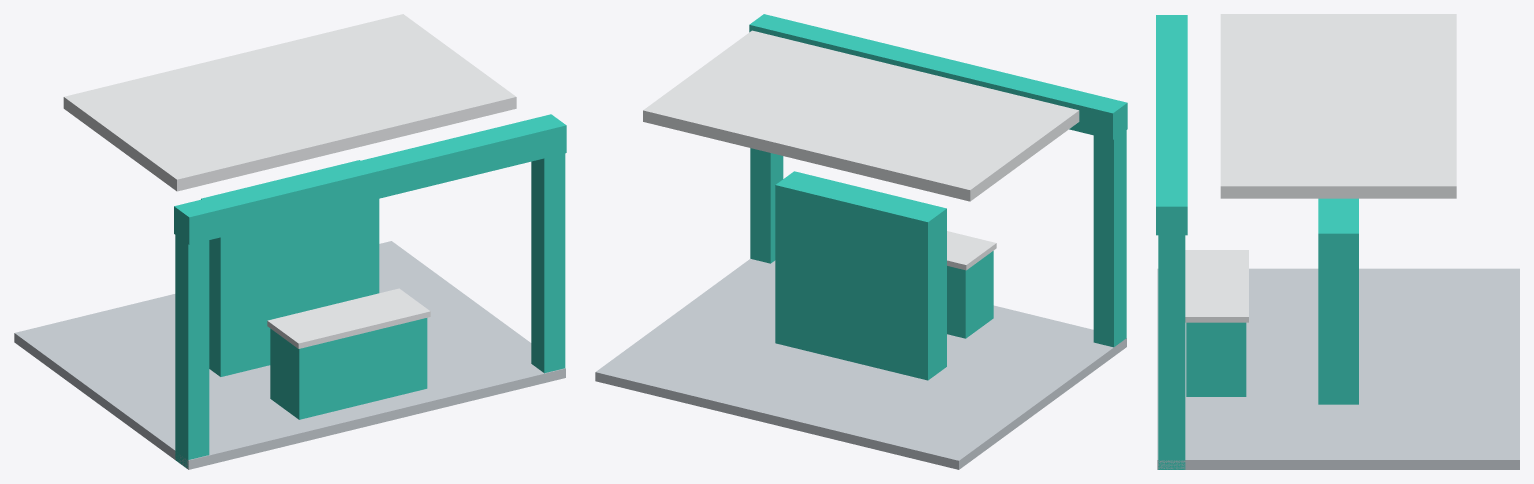
3 renders of one model, left to right at view 1: azimuth 30°, elevation 25°; view 2: azimuth 150°, elevation 25°; view 3: azimuth 270°, elevation 25°, orthographic. The views are drawn at different scales.
Parts seen in each view (by area): view 1: Exhibition Booth Concept; view 2: Exhibition Booth Concept; view 3: Exhibition Booth Concept.
Part boxes in pixels (left/top/right/bottom): Exhibition Booth Concept: left=14, top=14, right=566, bottom=469; Exhibition Booth Concept: left=595, top=14, right=1127, bottom=469; Exhibition Booth Concept: left=1156, top=14, right=1519, bottom=469.
Size of the model in its own units: 5 by 3.34 by 4.02.
